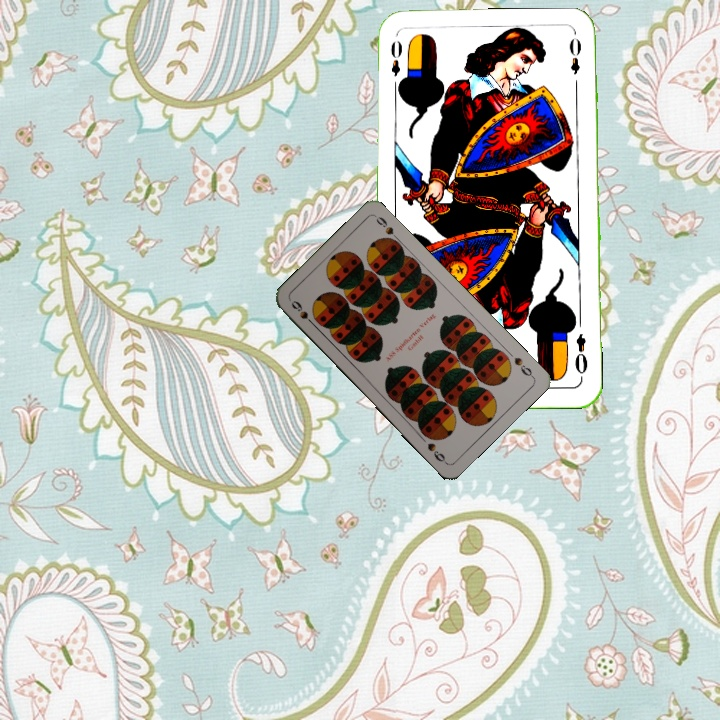EO: (386, 36, 406, 93), (571, 330, 591, 382)
S9: (287, 296, 319, 329), (510, 353, 536, 380)
